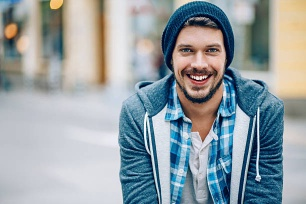male: (172, 21, 227, 105)
